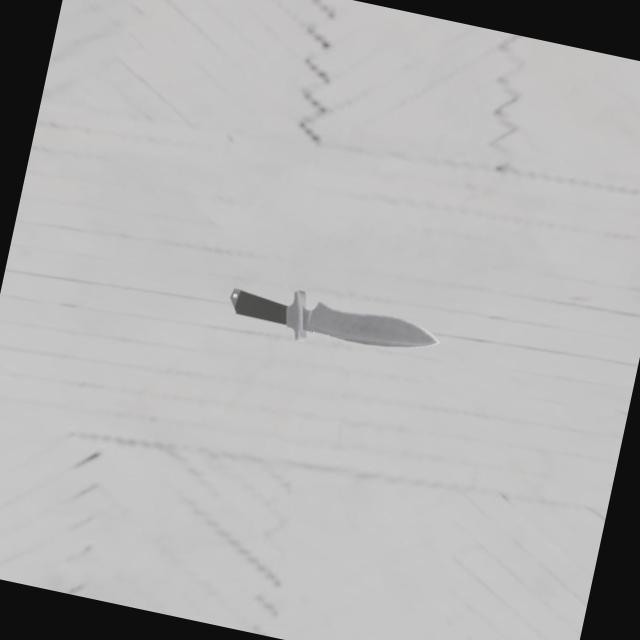knife: (213, 282, 291, 326)
